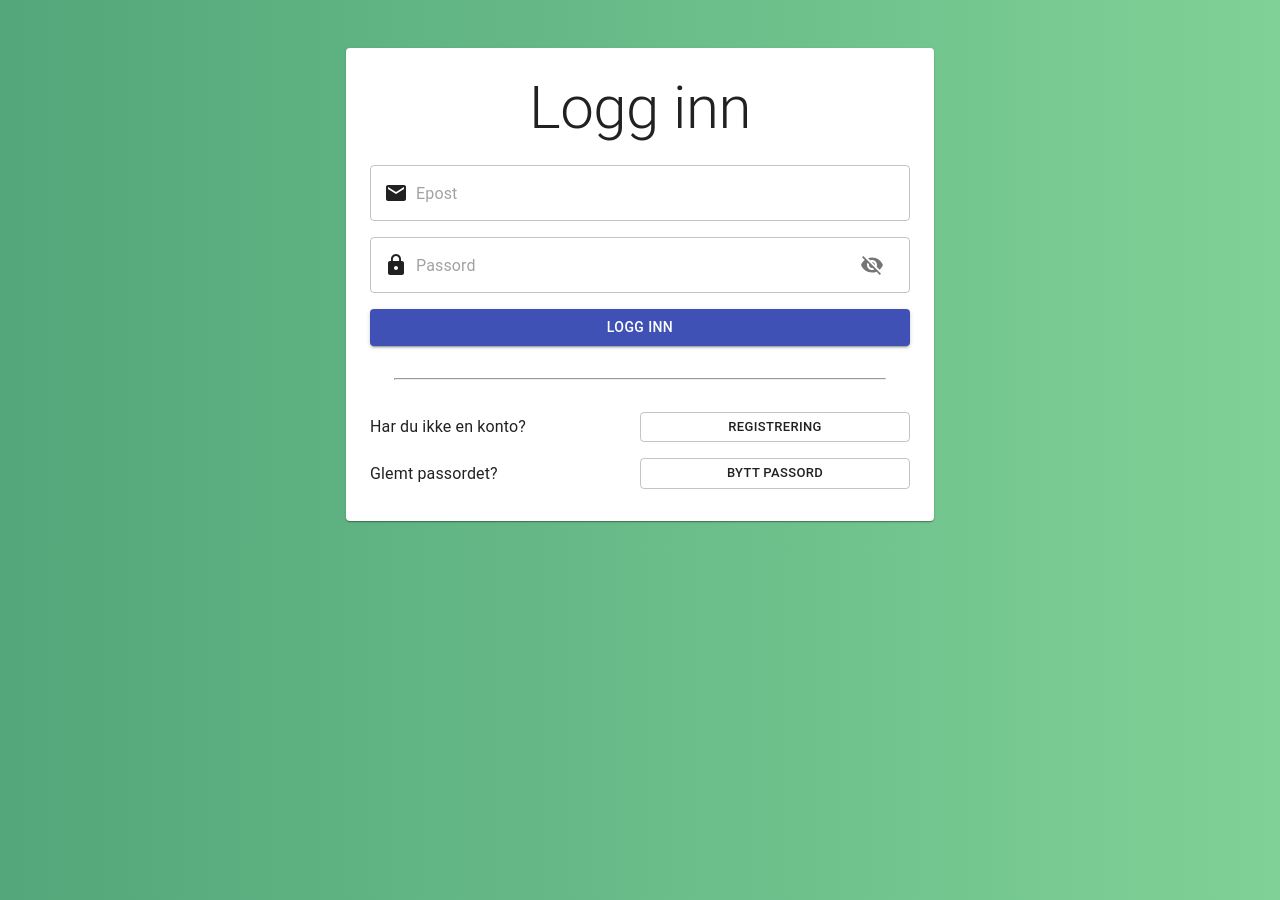
The Login component › should be able to toggle password visibility
Expected: the icon with test id "visibilityOffButton" is shown, [860,253,884,277]
Click the button with test id "visibilityOffButton" at (872, 265), box [848,241,896,289]
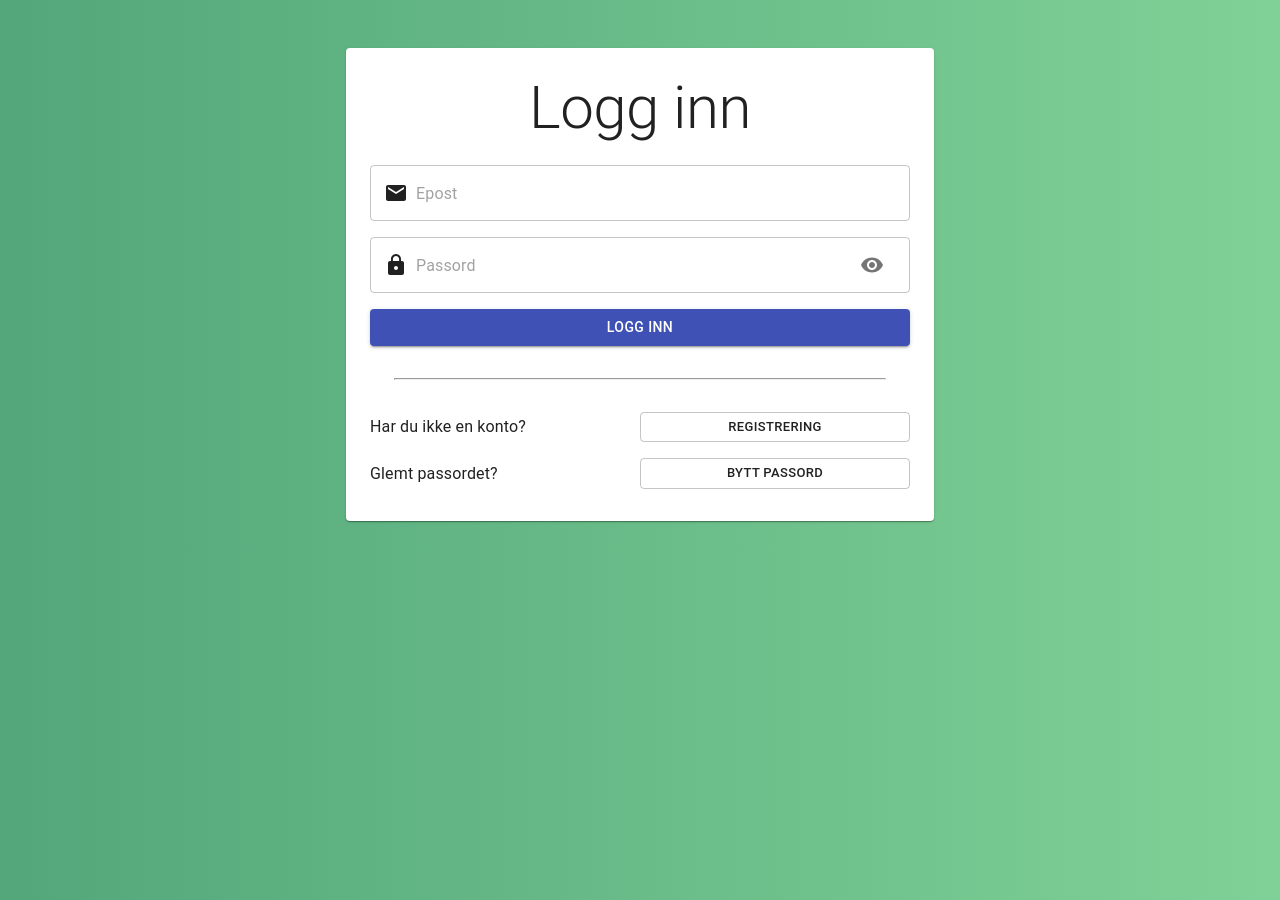
Now the icon with test id "visibilityButton" is shown, box [860,253,884,277]
